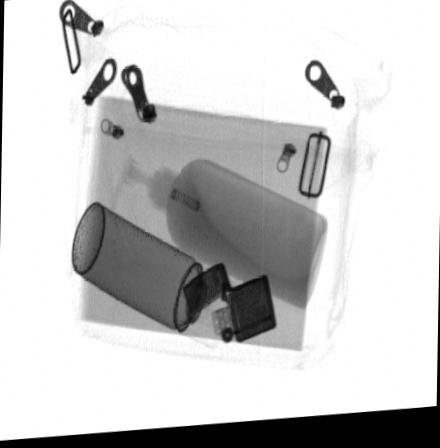Lighter: (181, 269, 275, 348)
Sprayer: (72, 204, 233, 352)
